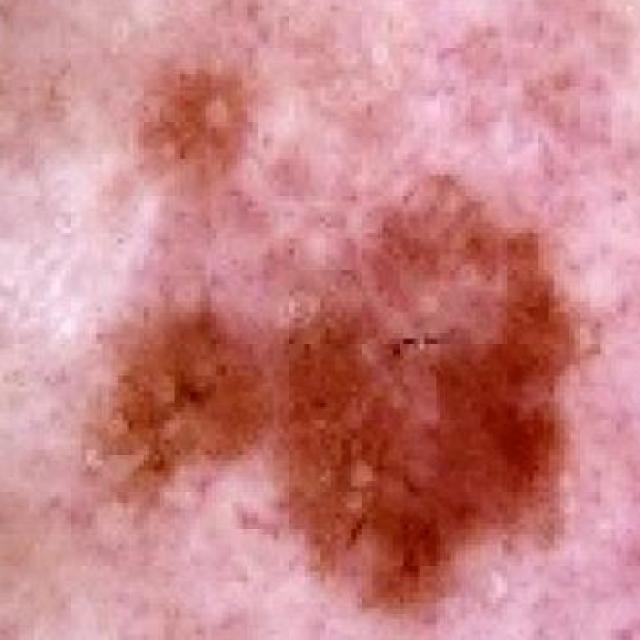MEL: (49, 50, 616, 640)
